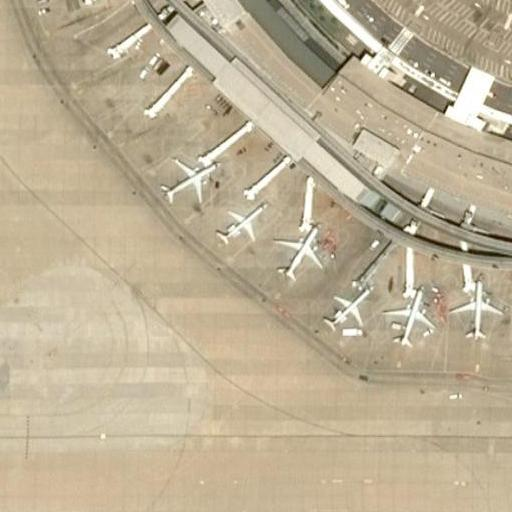Aircraft: (447, 278, 503, 342), (383, 281, 436, 347), (271, 222, 326, 282), (209, 197, 270, 246), (157, 153, 213, 205), (324, 281, 371, 332)
